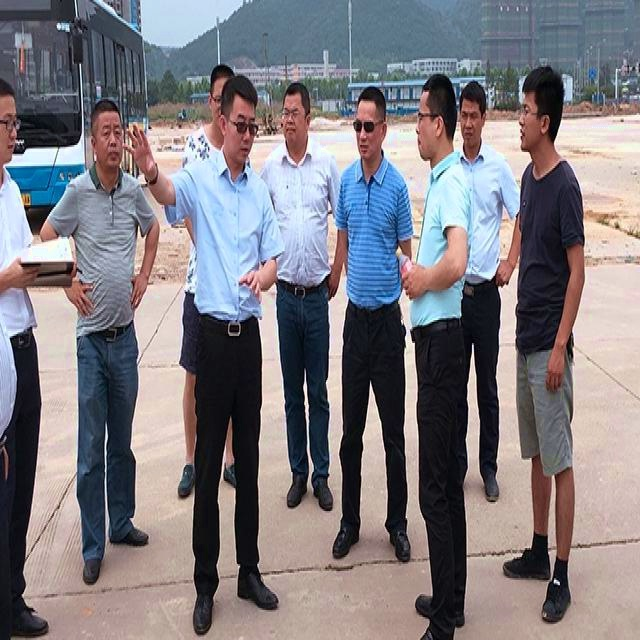Sin_Casco_Mascarrilla: (518, 67, 564, 157), (279, 82, 312, 150)
Sin_Chaleco: (515, 160, 584, 350), (408, 157, 473, 327), (335, 158, 409, 307)
